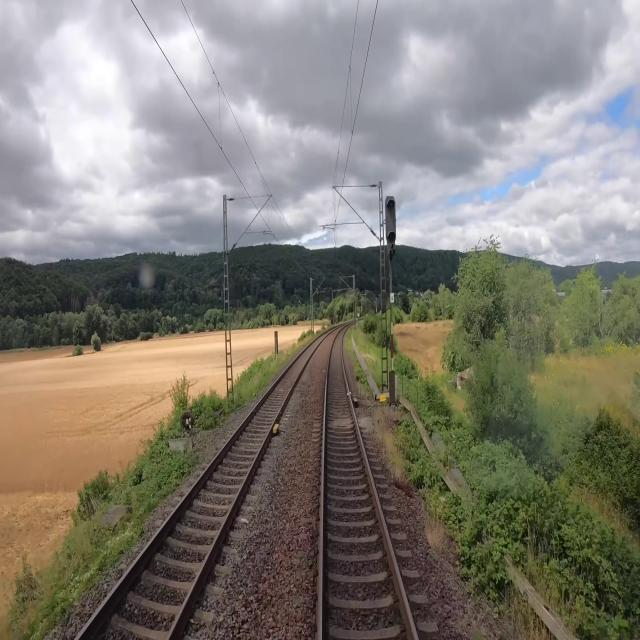Plant: (71, 454, 198, 603), (373, 404, 417, 499), (353, 358, 373, 397), (344, 326, 355, 356), (426, 524, 438, 547)
